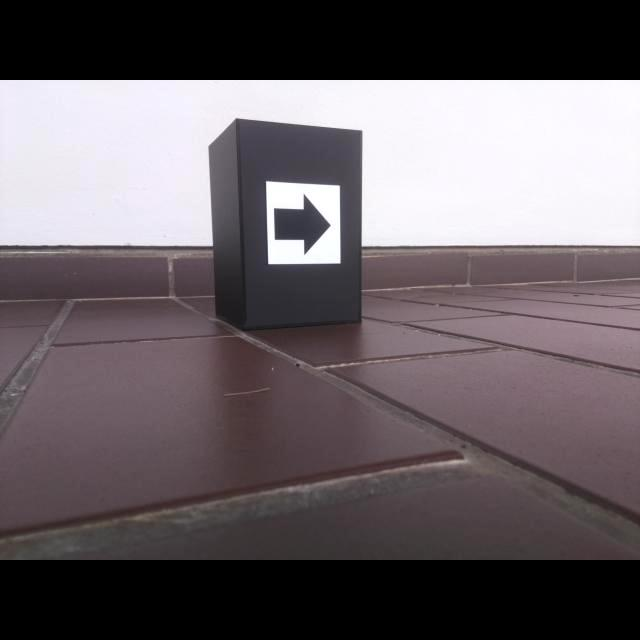RIGHT: (273, 192, 332, 257)
